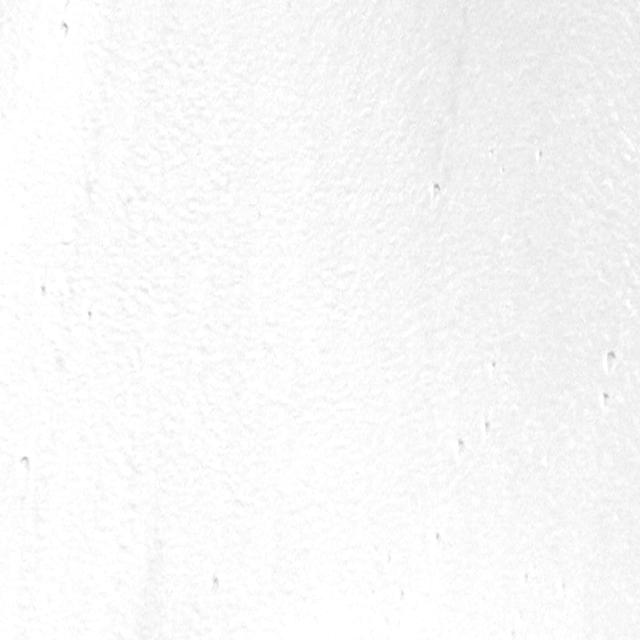pin holes: (599, 351, 620, 378), (13, 454, 34, 481), (53, 17, 73, 44), (204, 572, 224, 597), (32, 280, 52, 300), (452, 438, 468, 460), (427, 182, 443, 202), (597, 391, 612, 412), (428, 532, 445, 549), (479, 420, 492, 438), (35, 285, 48, 303), (395, 586, 408, 604), (81, 308, 94, 324), (487, 359, 500, 375), (518, 572, 530, 589), (533, 150, 545, 166)
